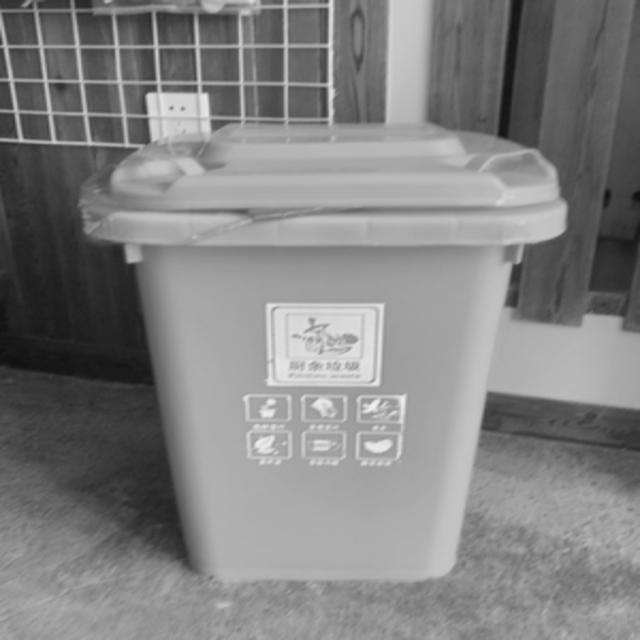ash bin: (77, 114, 567, 587)
